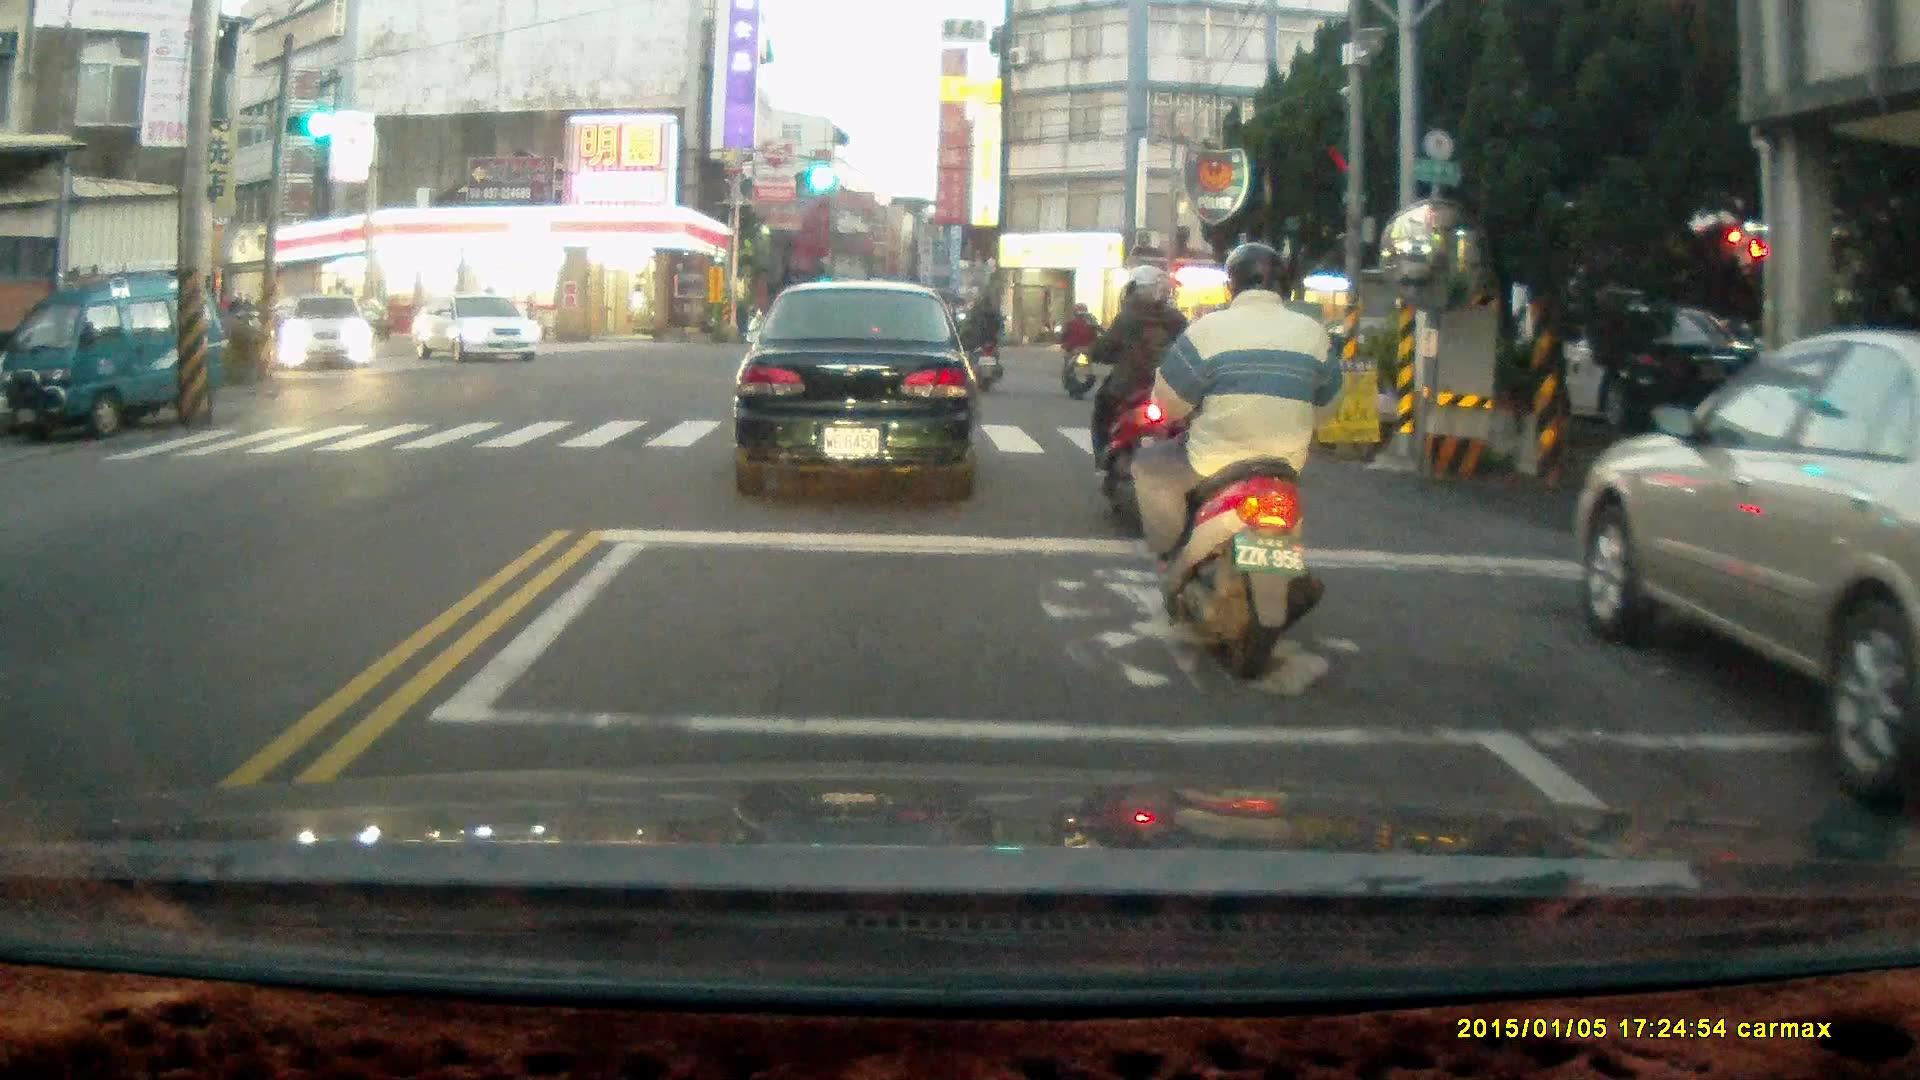rider: (1132, 239, 1342, 684), (1068, 256, 1204, 532), (955, 287, 1013, 391), (1054, 298, 1098, 399)
vehicle: (1574, 322, 1920, 812), (728, 277, 985, 502), (1472, 293, 1787, 439), (4, 274, 233, 441), (412, 293, 543, 364), (272, 296, 380, 372)
